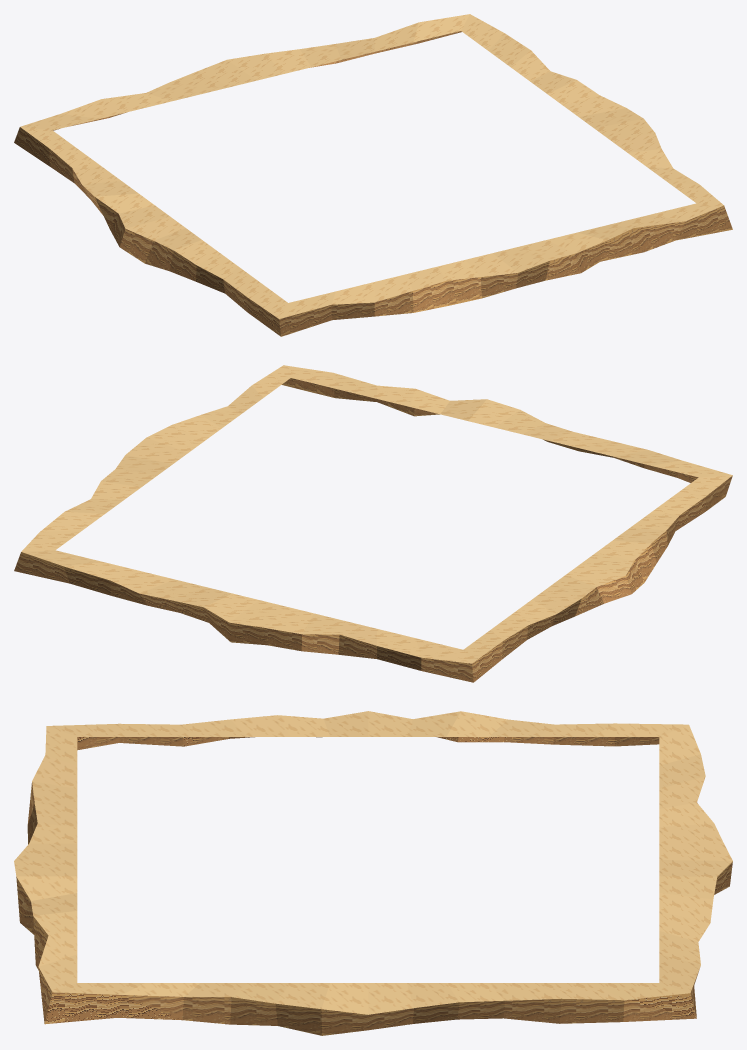
File: entorno_18.glb
The picture shows the model from 3 angles, top to bottom: view 1: azimuth 30°, elevation 25°; view 2: azimuth 150°, elevation 25°; view 3: azimuth 270°, elevation 25°; orthographic projection. The views are drawn at different scales.
Visible parts, largest first — view 1: deserto_entorno_18; view 2: deserto_entorno_18; view 3: deserto_entorno_18.
Part boxes in pixels (bbox=[...]): deserto_entorno_18: bbox=[14, 14, 732, 336]; deserto_entorno_18: bbox=[14, 365, 732, 682]; deserto_entorno_18: bbox=[14, 711, 732, 1035].
Size of the model in its own units: 22.6 by 1.07 by 22.49.
Materials: 2 (2 with a texture image).
